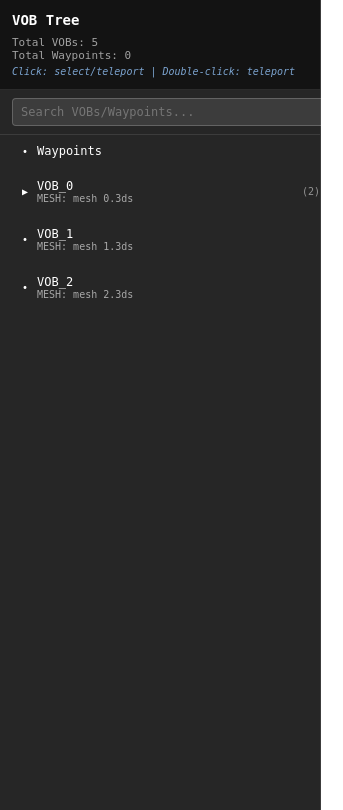
Test: VOBTree Component › Search Functionality › should show "No VOBs match your search" when no results
Step 1. Type "nonexistent" into the field with placeholder "Search VOBs/Waypoints..." → (169, 112), box [12,98,326,126]
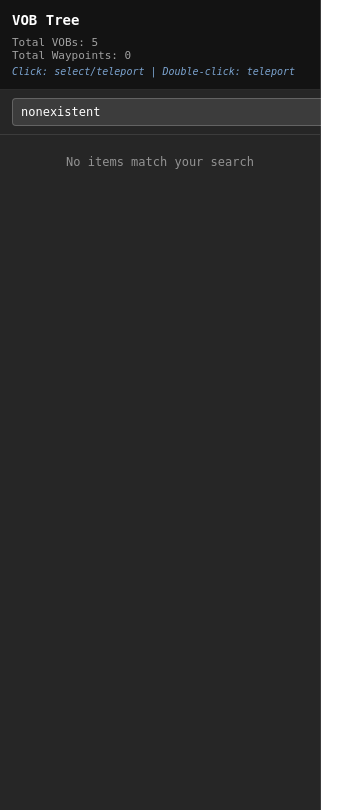
Now the text "No items match your search" is shown, box [66,155,254,169]
